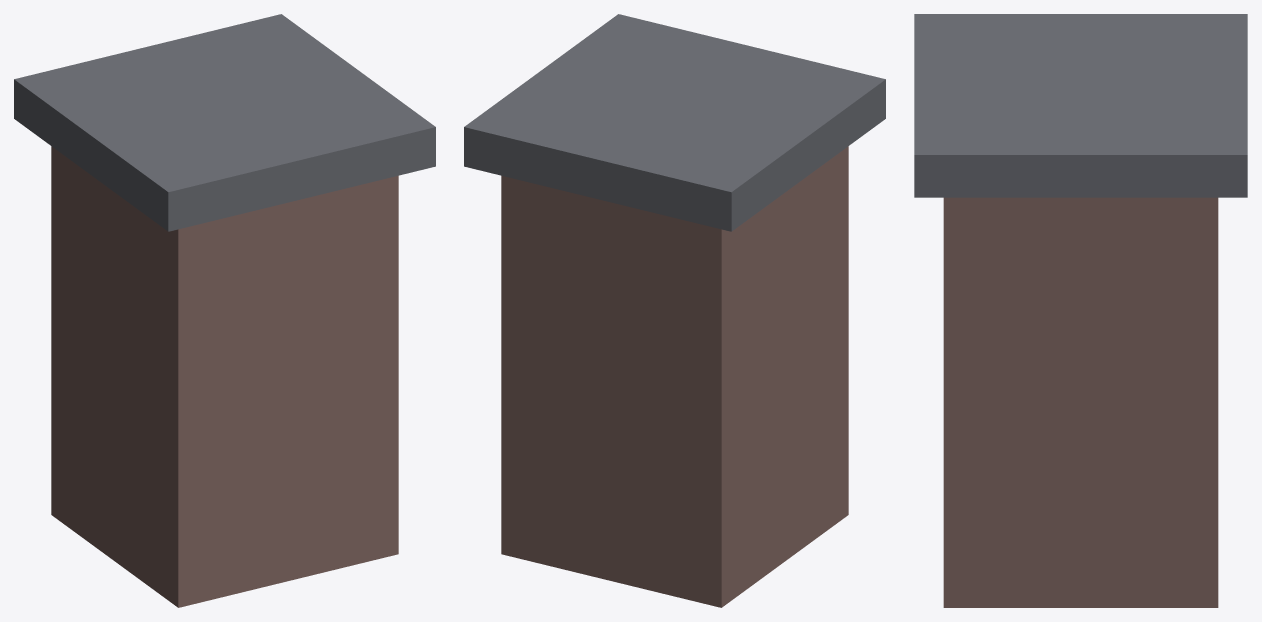
The model's file is chimenea_tejado.glb.
3 renders of one model, left to right at view 1: azimuth 30°, elevation 25°; view 2: azimuth 150°, elevation 25°; view 3: azimuth 270°, elevation 25°, orthographic. The views are drawn at different scales.
Parts seen in each view (by area): view 1: ChimeneaTejado; view 2: ChimeneaTejado; view 3: ChimeneaTejado.
Boxes of the visible parts, x1,y1,x2,y2 form: ChimeneaTejado: (14,14,435,607); ChimeneaTejado: (464,14,885,607); ChimeneaTejado: (914,14,1247,607).
Size of the model in its own units: 0.85 by 1.31 by 0.85.
